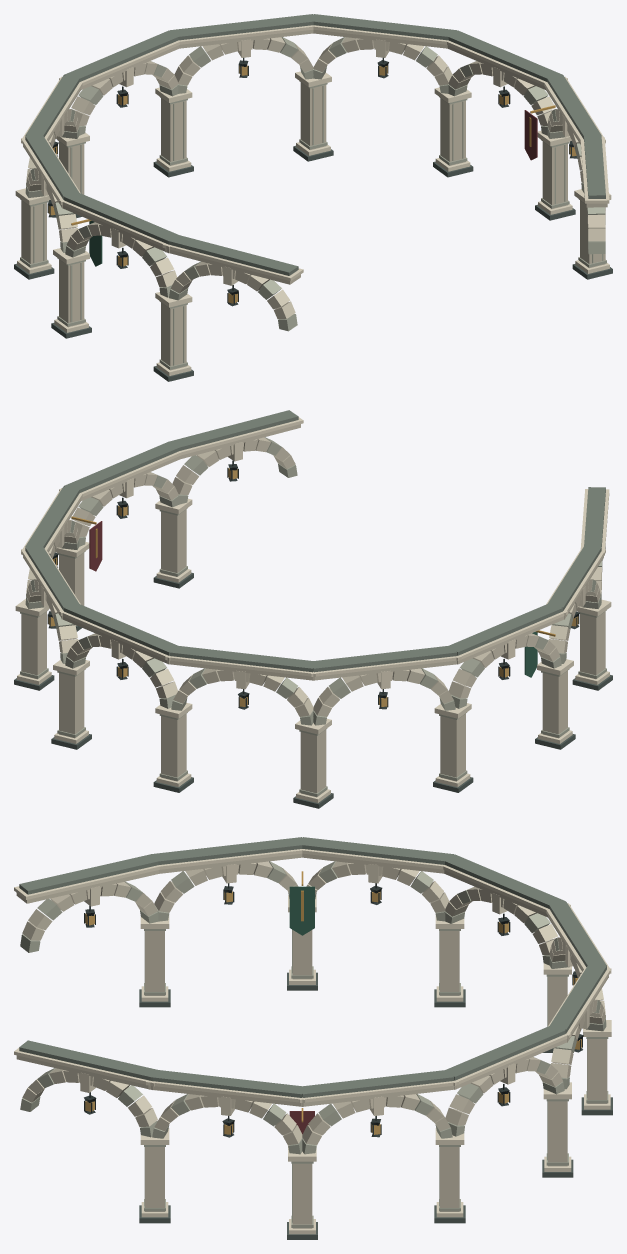
File: arcades-v1.glb
3 views of the same model, one above another, from view 1: azimuth 30°, elevation 25°; view 2: azimuth 150°, elevation 25°; view 3: azimuth 270°, elevation 25° (orthographic). The views are drawn at different scales.
Parts seen in each view (by area): view 1: arcades; view 2: arcades; view 3: arcades.
Boxes of the visible parts, x1,y1,x2,y2 form: arcades: [14, 14, 612, 381]; arcades: [14, 410, 612, 808]; arcades: [14, 837, 612, 1239].
Size of the model in its own units: 21.06 by 5.35 by 20.31.
